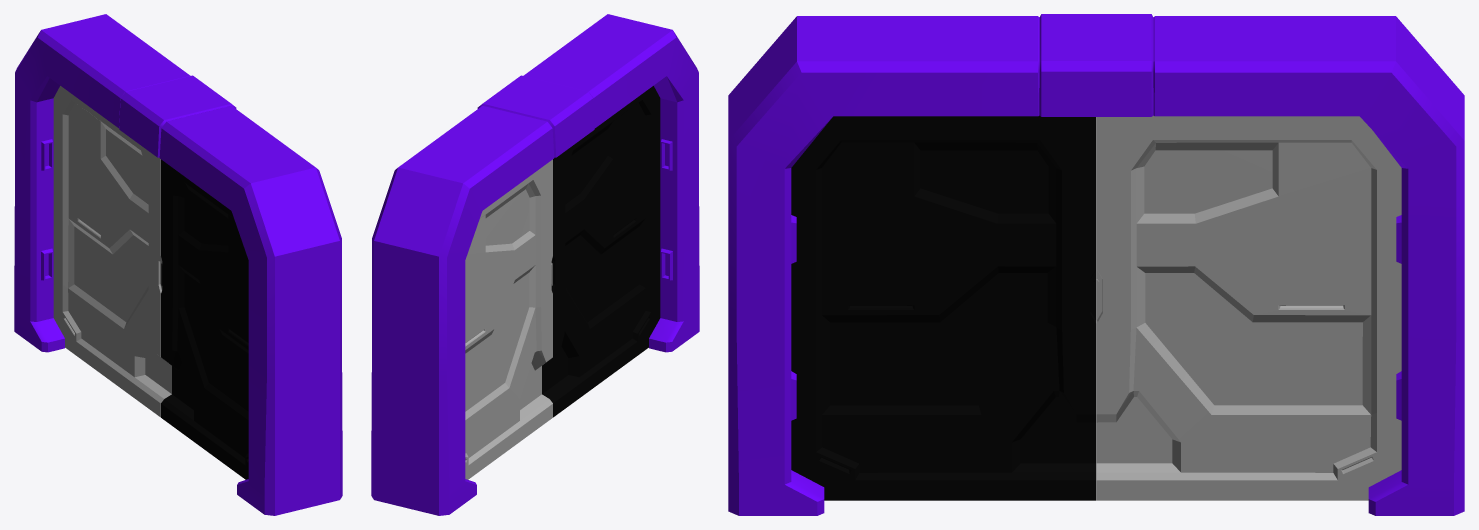
Rendered from doors.fbx.
3 views of the same model, side by side, from view 1: azimuth 30°, elevation 25°; view 2: azimuth 150°, elevation 25°; view 3: azimuth 270°, elevation 25° (orthographic). The views are drawn at different scales.
Parts seen in each view (by area): view 1: DefaultObject, txt3:lowL, txt3:lowR; view 2: DefaultObject, txt3:lowR, txt3:lowL; view 3: DefaultObject, txt3:lowL, txt3:lowR.
Part boxes in pixels (x1,y1,x2,y2): DefaultObject: [14, 14, 342, 515]; txt3:lowL: [53, 86, 171, 417]; txt3:lowR: [161, 159, 248, 479]; DefaultObject: [371, 14, 699, 515]; txt3:lowR: [542, 86, 660, 417]; txt3:lowL: [465, 159, 552, 479]; DefaultObject: [728, 14, 1464, 515]; txt3:lowL: [1096, 115, 1401, 500]; txt3:lowR: [791, 115, 1096, 500].
Bounding box in the file's own units: 5.88 × 22.18 × 32.82.
